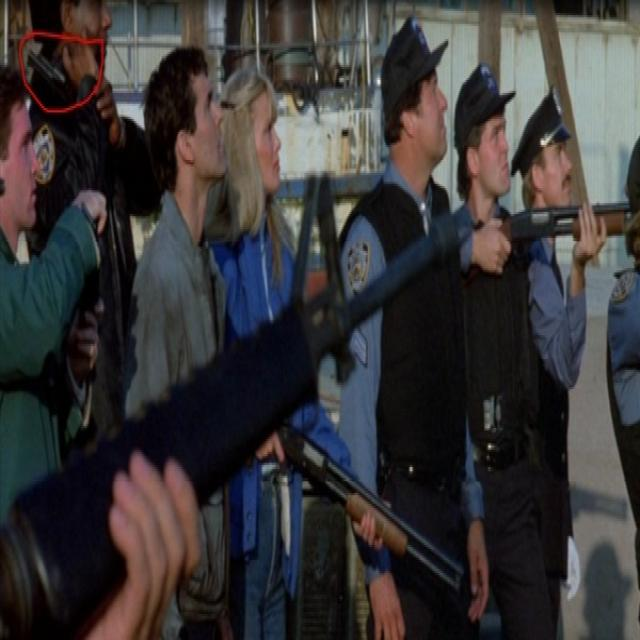rifle: (1, 163, 461, 640), (277, 419, 471, 600), (496, 188, 635, 245)
